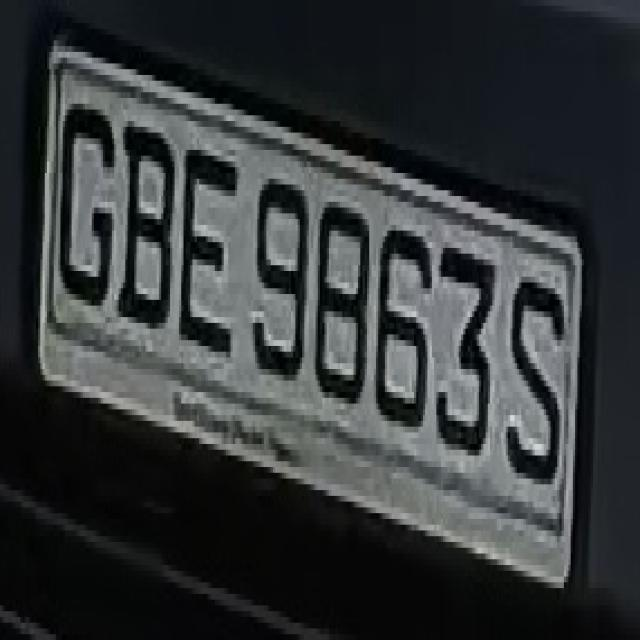3: (427, 219, 497, 484)
6: (371, 196, 432, 456)
8: (311, 184, 374, 403)
9: (246, 156, 313, 398)
B: (114, 104, 179, 340)
E: (188, 127, 242, 369)
G: (49, 69, 121, 329)
S: (497, 260, 575, 513)
